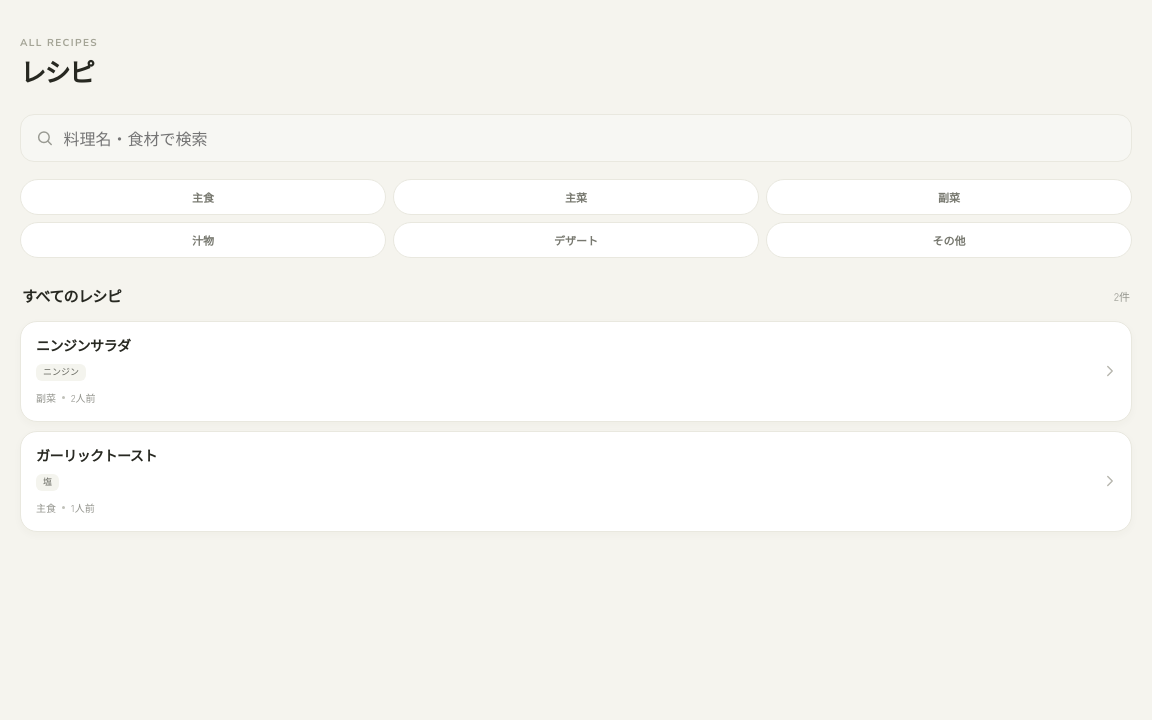
RecipeBook search controls › toggles a category off and switches directly to another category
Click the button "主食".
click(203, 197)  # box [20,179,386,215]
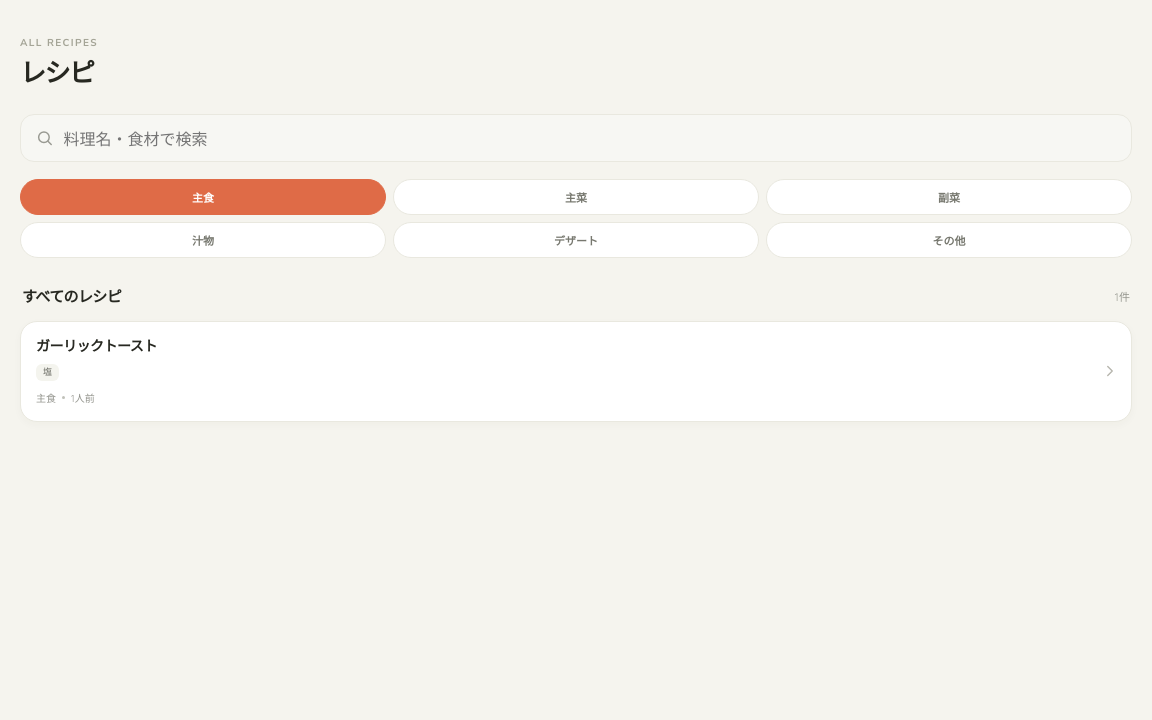
expect the heading "ガーリックトースト" is shown: met, box [36,335,157,355]
expect the link "ニンジンサラダ" is gone: met
Click the button "副菜".
click(949, 197)  # box [766,179,1132,215]
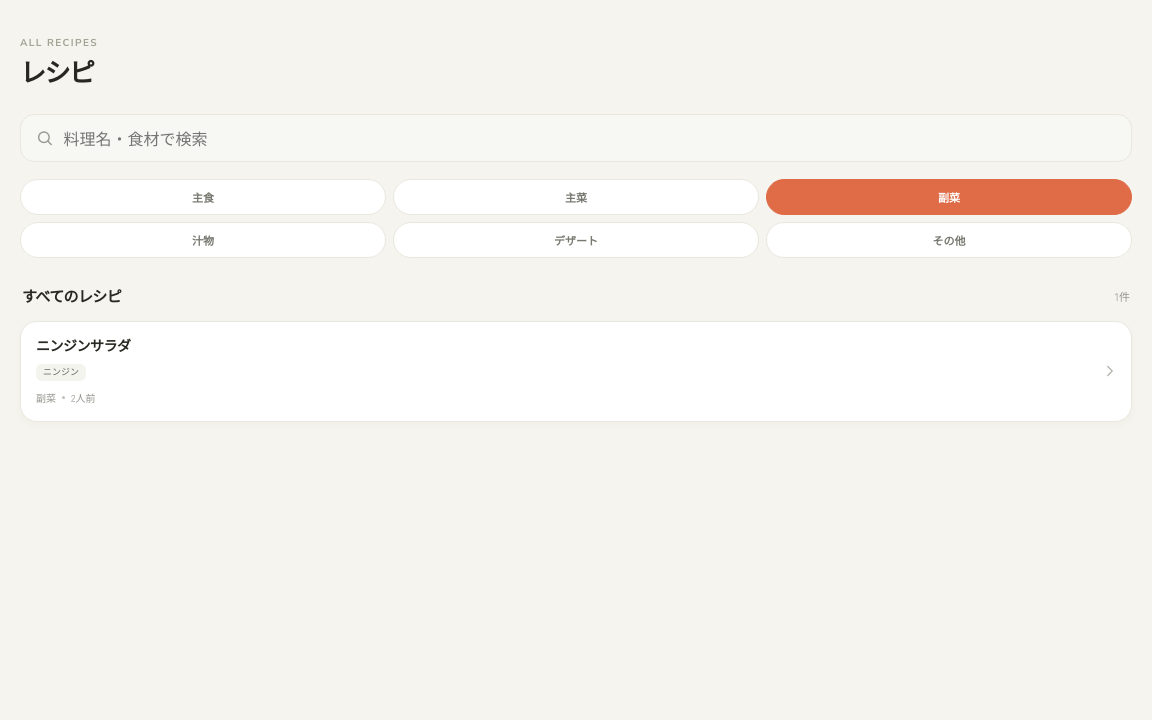
expect the heading "ニンジンサラダ" is shown: met, box [36,335,131,355]
expect the link "ガーリックトースト" is gone: met
Click the button "副菜".
click(949, 197)  # box [766,179,1132,215]
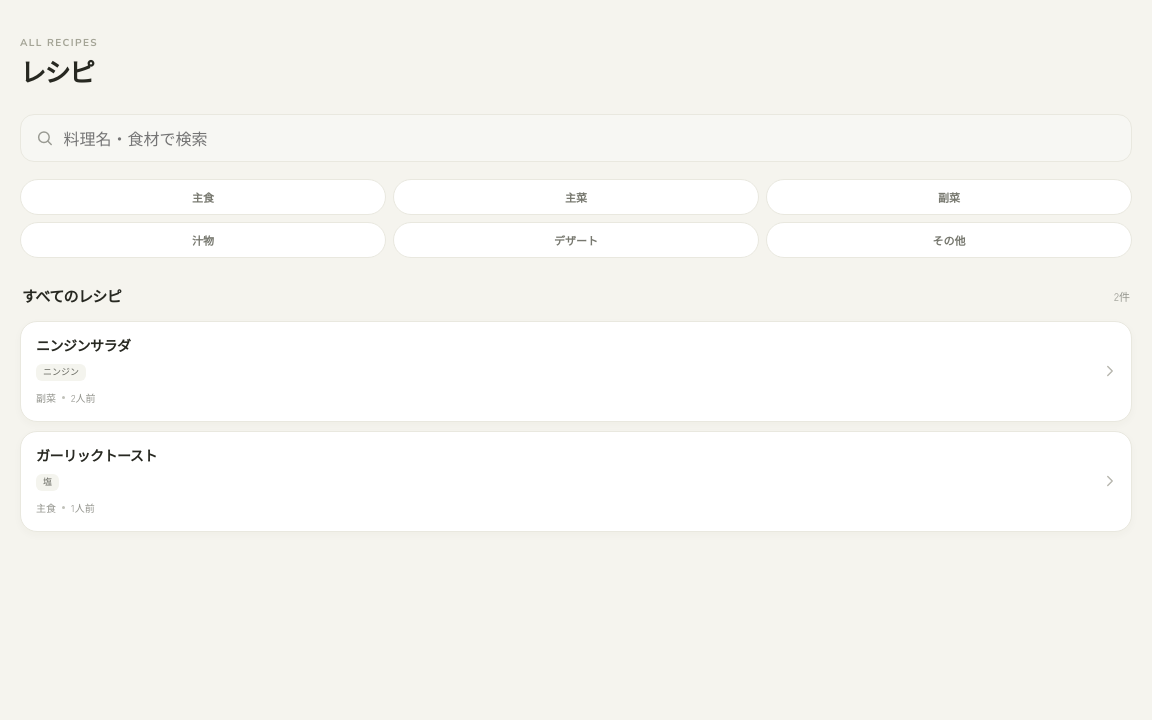
expect the text "すべてのレシピ" is shown: met, box [22,284,121,309]
expect the heading "ニンジンサラダ" is shown: met, box [36,335,131,355]
expect the heading "ガーリックトースト" is shown: met, box [36,445,157,465]
